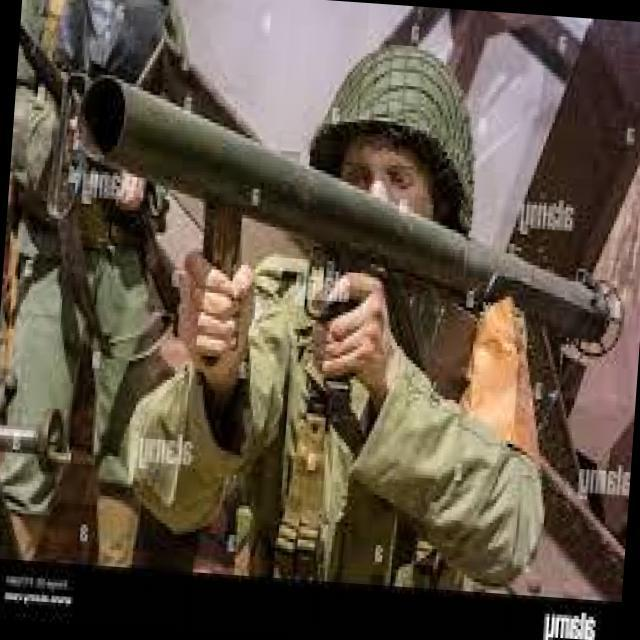rocket: (65, 66, 640, 354)
